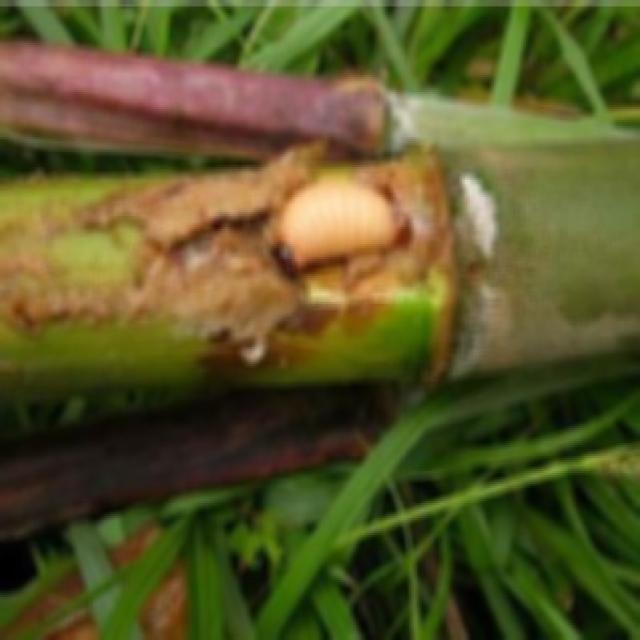grub: (274, 175, 425, 276)
